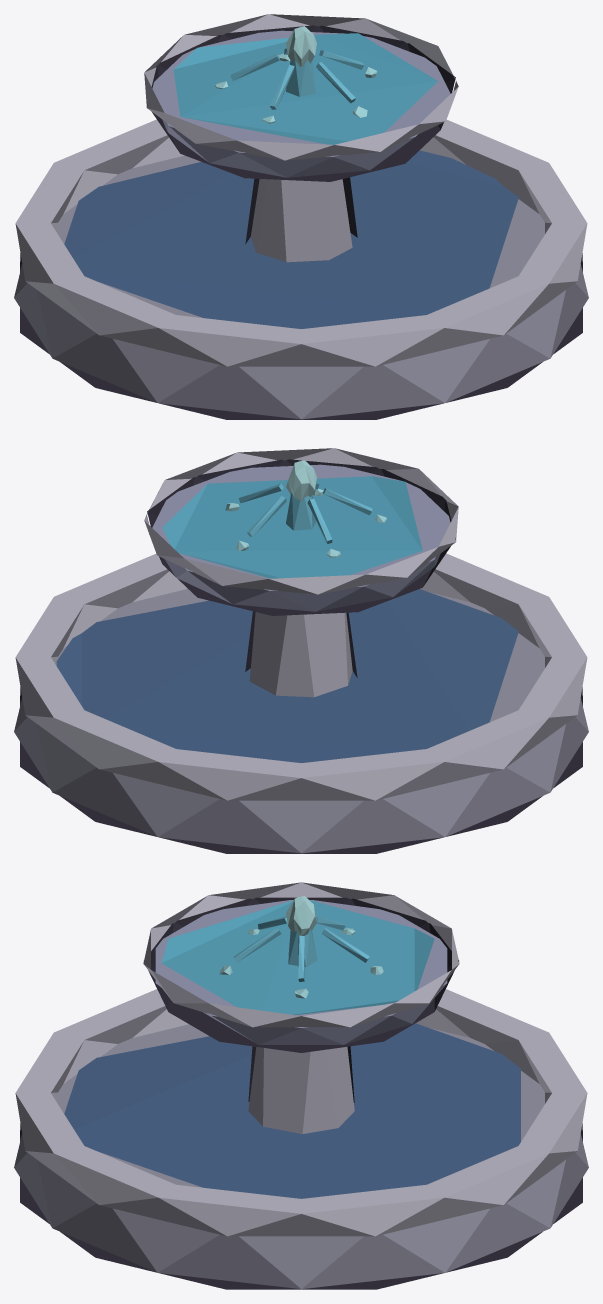
The model's file is fountain-lod1.glb.
3 views of the same model, one above another, from view 1: azimuth 30°, elevation 25°; view 2: azimuth 150°, elevation 25°; view 3: azimuth 270°, elevation 25° (orthographic).
Parts seen in each view (by area): view 1: fountain, fountain_water; view 2: fountain, fountain_water; view 3: fountain, fountain_water.
Boxes of the visible parts, x1=… form: fountain: x1=14, y1=14, x2=588, y2=419; fountain_water: x1=215, y1=26, x2=377, y2=123; fountain: x1=14, y1=448, x2=588, y2=853; fountain_water: x1=225, y1=460, x2=386, y2=557; fountain: x1=14, y1=882, x2=588, y2=1289; fountain_water: x1=219, y1=896, x2=383, y2=998.
Size of the model in its own units: 3.9 by 2.05 by 3.9.
